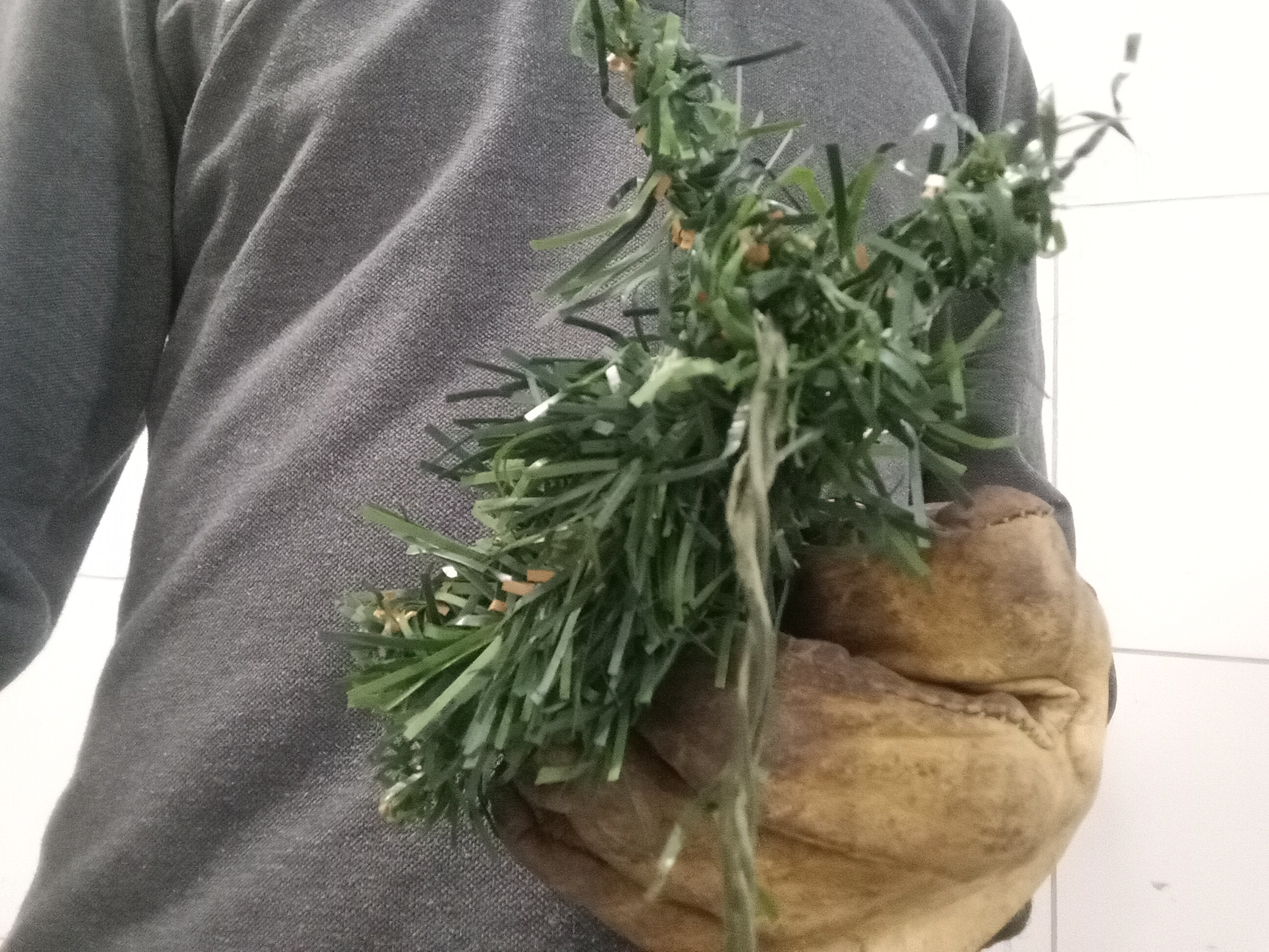Ordinario: (328, 0, 1062, 827)
